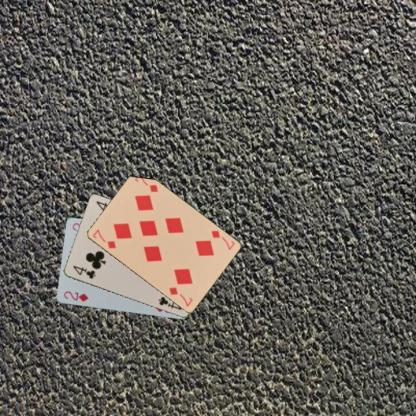2d: (61, 288, 90, 304)
4c: (70, 262, 96, 280)
7d: (208, 228, 236, 252), (90, 226, 118, 249)
